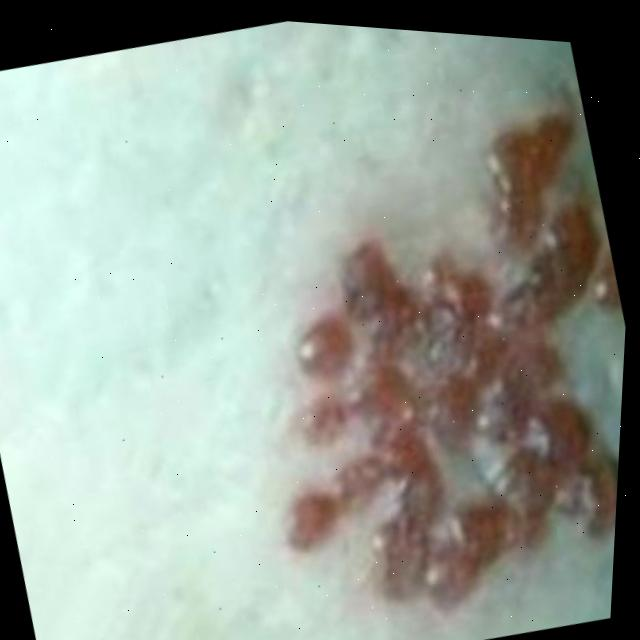Shingles: (182, 75, 637, 640)
